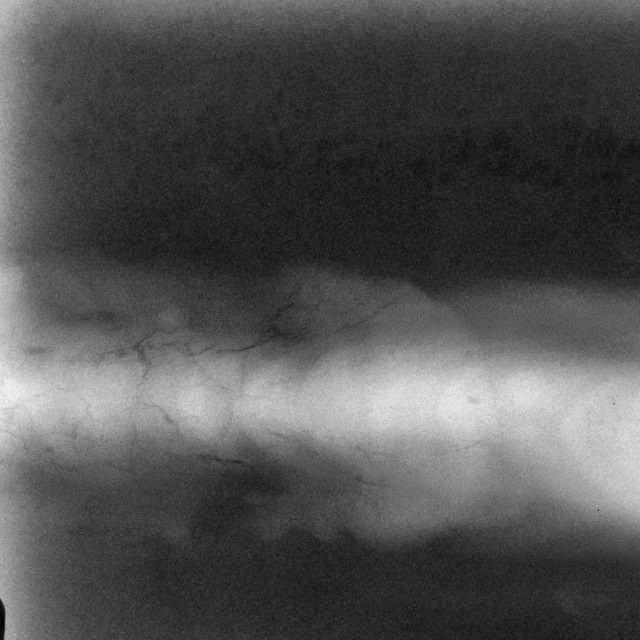Crack: (57, 384, 362, 507), (22, 288, 392, 376)
